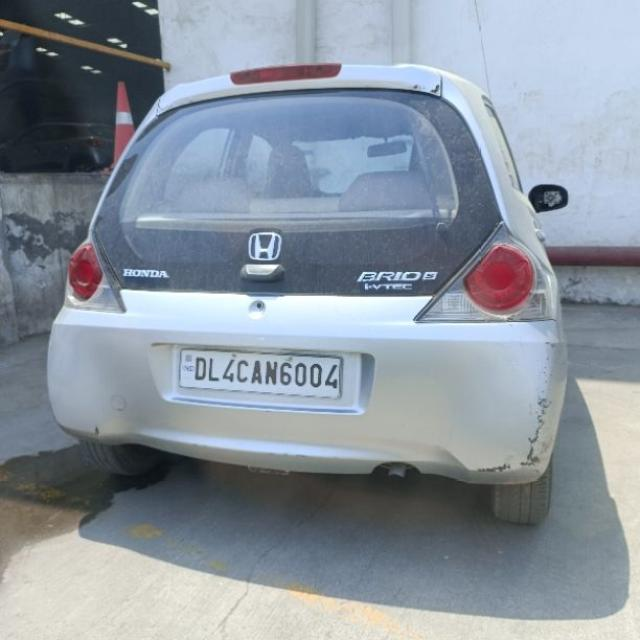license_plate: (176, 346, 346, 400)
